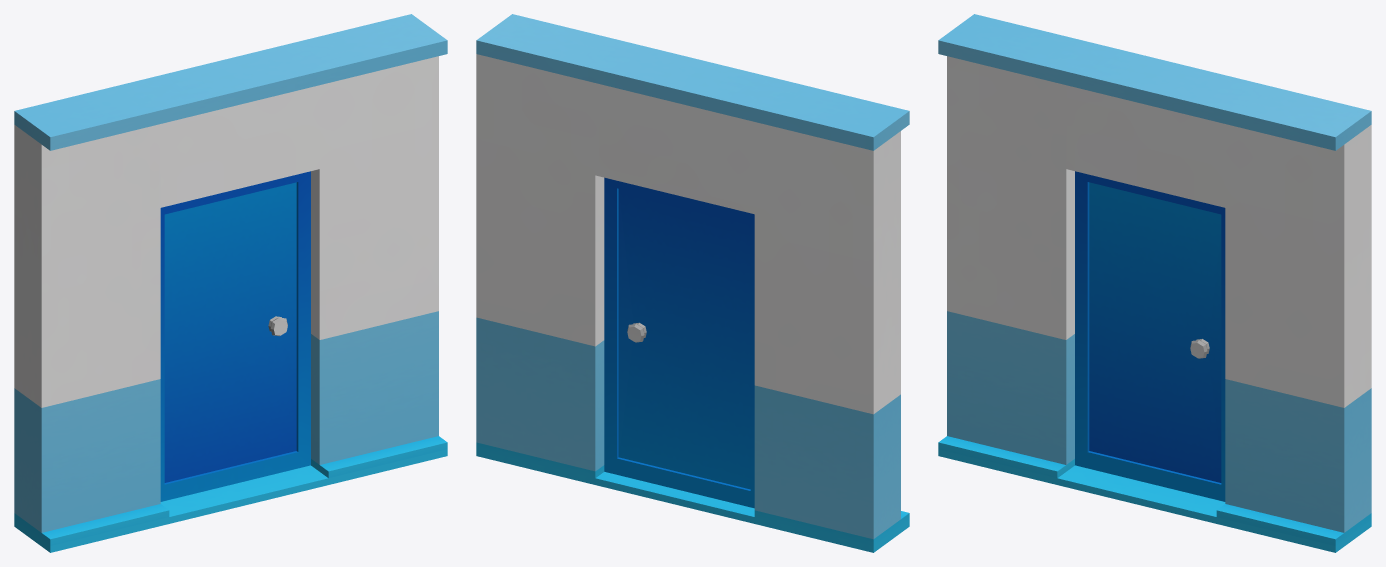
Rendered from wall_door.dae.
The picture shows the model from 3 angles, left to right: view 1: azimuth 30°, elevation 25°; view 2: azimuth 150°, elevation 25°; view 3: azimuth 330°, elevation 25°; orthographic projection.
Visible parts, largest first — view 1: wall_door, door_1; view 2: wall_door, door_1; view 3: wall_door, door_1.
Boxes of the visible parts, <box> form: wall_door: <box>14,14,447,552</box>; door_1: <box>160,171,310,501</box>; wall_door: <box>476,14,909,552</box>; door_1: <box>604,177,754,508</box>; wall_door: <box>938,14,1371,552</box>; door_1: <box>1075,171,1225,501</box>.
Bounding box in the file's own units: 2 × 0.314 × 2.
